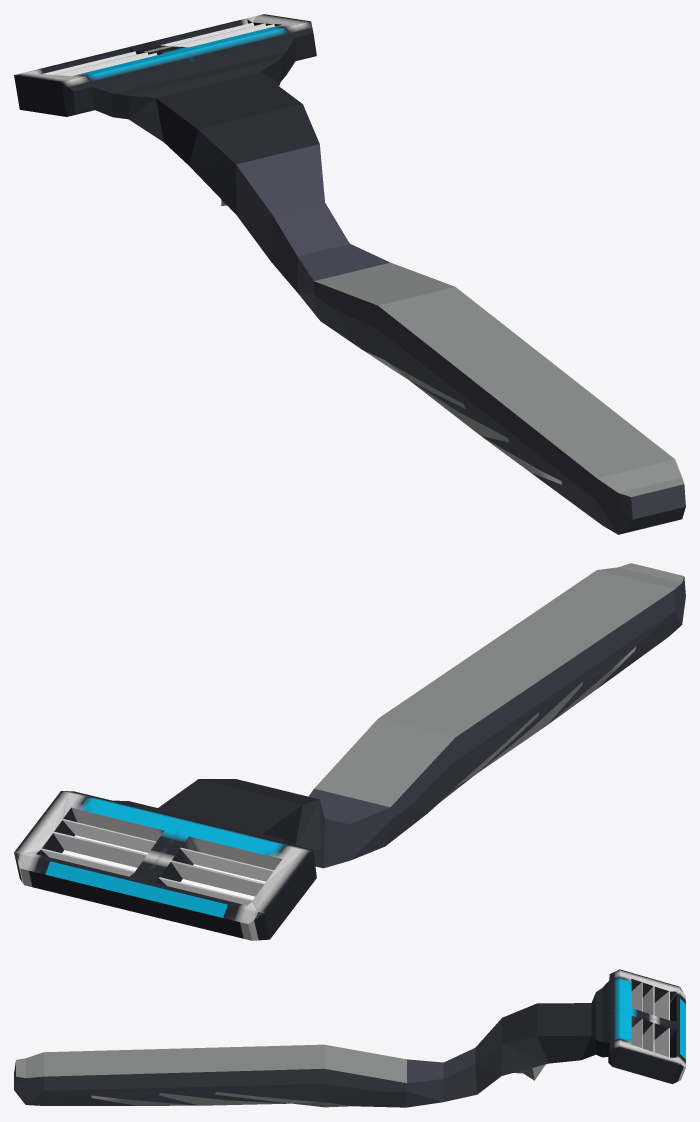
The model's file is CKRazor.dae.
The picture shows the model from 3 angles, top to bottom: view 1: azimuth 30°, elevation 25°; view 2: azimuth 150°, elevation 25°; view 3: azimuth 270°, elevation 25°; orthographic projection. The views are drawn at different scales.
Parts seen in each view (by area): view 1: Cube_003; view 2: Cube_003; view 3: Cube_003.
Boxes of the visible parts, bbox=[...] form: Cube_003: bbox=[14, 14, 685, 534]; Cube_003: bbox=[14, 563, 685, 940]; Cube_003: bbox=[14, 969, 685, 1107].
Bounding box in the file's own units: 0.8525 × 3.1 × 0.4752.
Materials: 5 (5 with a texture image).
